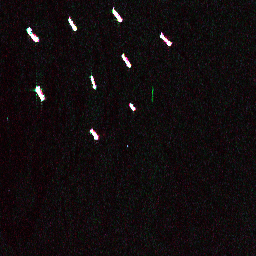ship: (23, 24, 43, 46), (32, 83, 48, 104), (156, 30, 174, 48), (118, 51, 134, 70), (109, 6, 125, 24), (65, 15, 79, 33), (87, 126, 102, 142), (88, 72, 98, 92), (126, 100, 138, 113)
